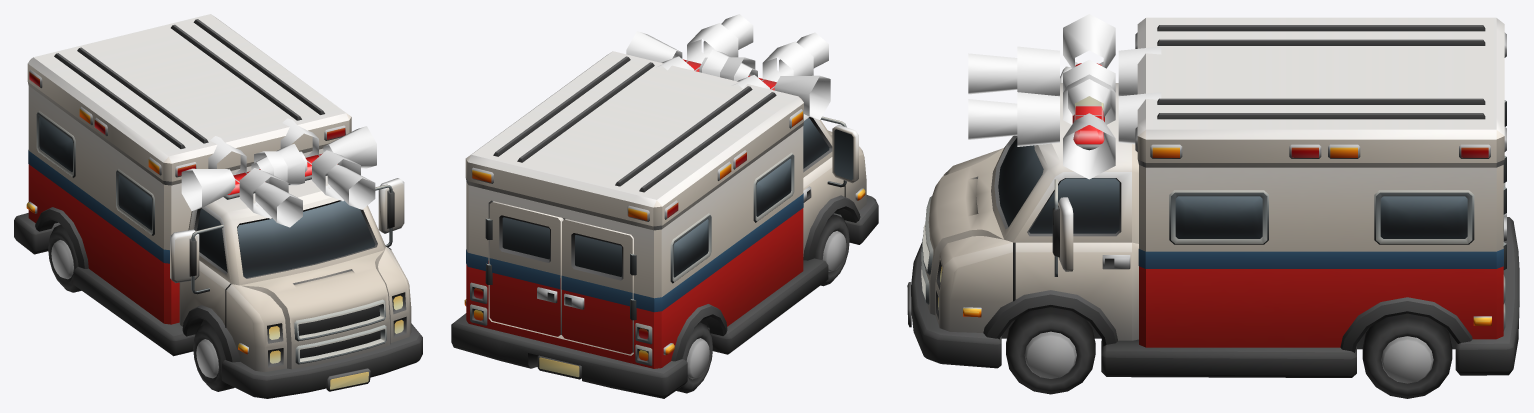
File: Car_9A.fbx
The picture shows the model from 3 angles, left to right: view 1: azimuth 30°, elevation 25°; view 2: azimuth 150°, elevation 25°; view 3: azimuth 270°, elevation 25°; orthographic projection. The views are drawn at different scales.
Parts seen in each view (by area): view 1: Car_9A, Light_Red_1.001, Light_Red.004, Wheel_9A_F.R, Wheel_9A_R.R; view 2: Car_9A, Door_9A_R.L, Door_9A_R.R, Light_Red_1.001, Light_Red.004, Wheel_9A_F.R, Wheel_9A_R.R; view 3: Car_9A, Light_Red.004, Light_Red_1.001, Wheel_9A_F.L, Wheel_9A_R.L.
Boxes of the visible parts, left/top/right/bottom form: Car_9A: left=14, top=14, right=422, bottom=398; Light_Red_1.001: left=181, top=136, right=304, bottom=227; Light_Red.004: left=254, top=118, right=376, bottom=209; Wheel_9A_F.R: left=193, top=323, right=234, bottom=391; Wheel_9A_R.R: left=48, top=224, right=81, bottom=292; Car_9A: left=451, top=51, right=878, bottom=398; Door_9A_R.L: left=485, top=201, right=563, bottom=336; Door_9A_R.R: left=561, top=219, right=636, bottom=354; Light_Red_1.001: left=702, top=32, right=830, bottom=119; Light_Red.004: left=626, top=14, right=755, bottom=80; Wheel_9A_F.R: left=814, top=214, right=849, bottom=286; Wheel_9A_R.R: left=676, top=322, right=712, bottom=393; Car_9A: left=907, top=17, right=1519, bottom=377; Light_Red.004: left=968, top=59, right=1161, bottom=179; Light_Red_1.001: left=968, top=14, right=1161, bottom=124; Wheel_9A_F.L: left=1006, top=307, right=1095, bottom=394; Wheel_9A_R.L: left=1362, top=313, right=1452, bottom=398.
Size of the model in its own units: 3.09 by 2.68 by 5.44.
